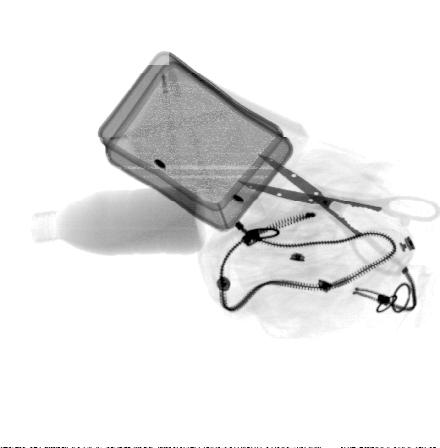Scissors: (237, 153, 439, 277)
